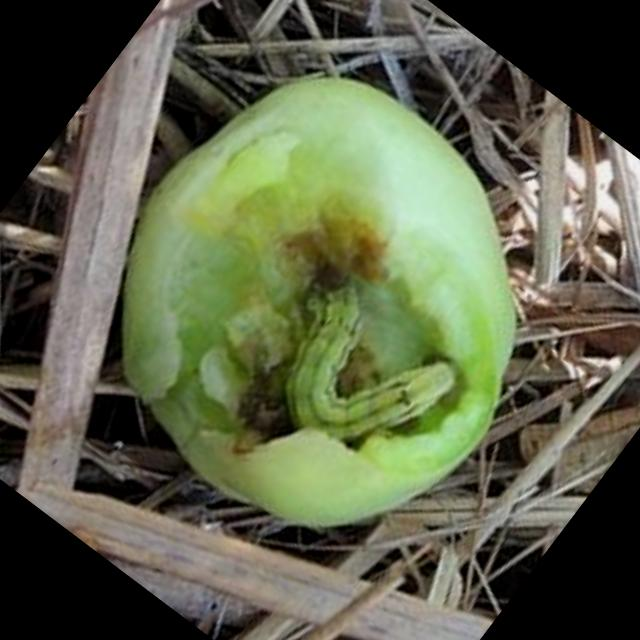Cotton bollworm: (223, 221, 505, 498)
